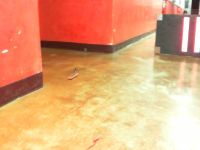switch: (181, 17, 190, 52), (194, 16, 200, 53)
